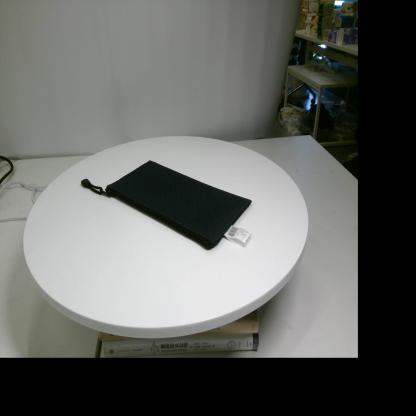Stationery: (81, 160, 252, 250)
